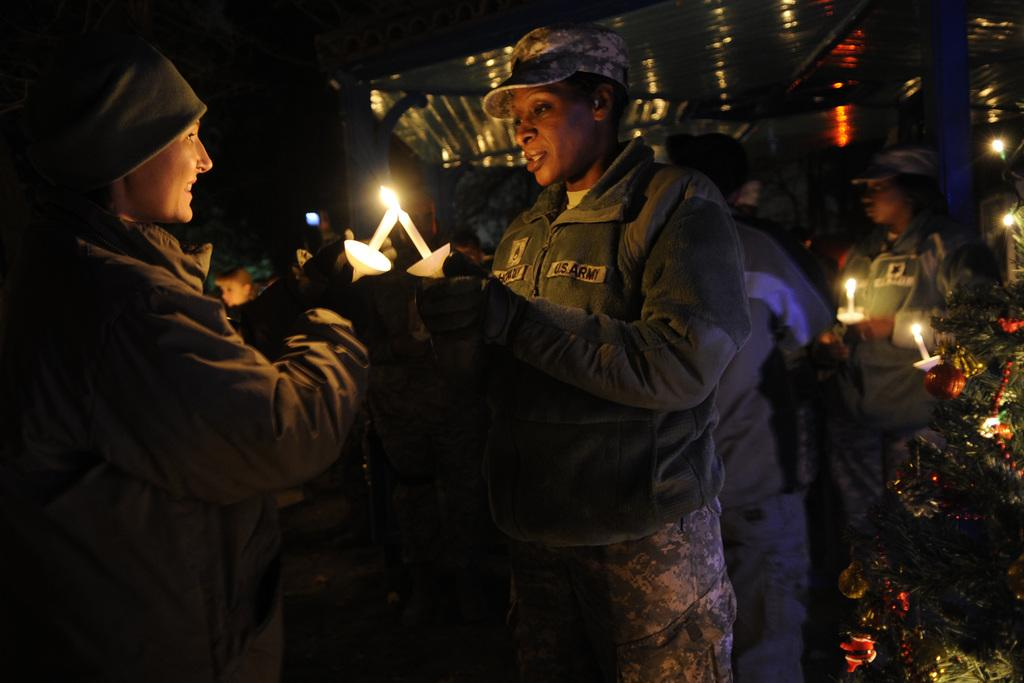Hat: (482, 26, 638, 120), (850, 148, 938, 183)
